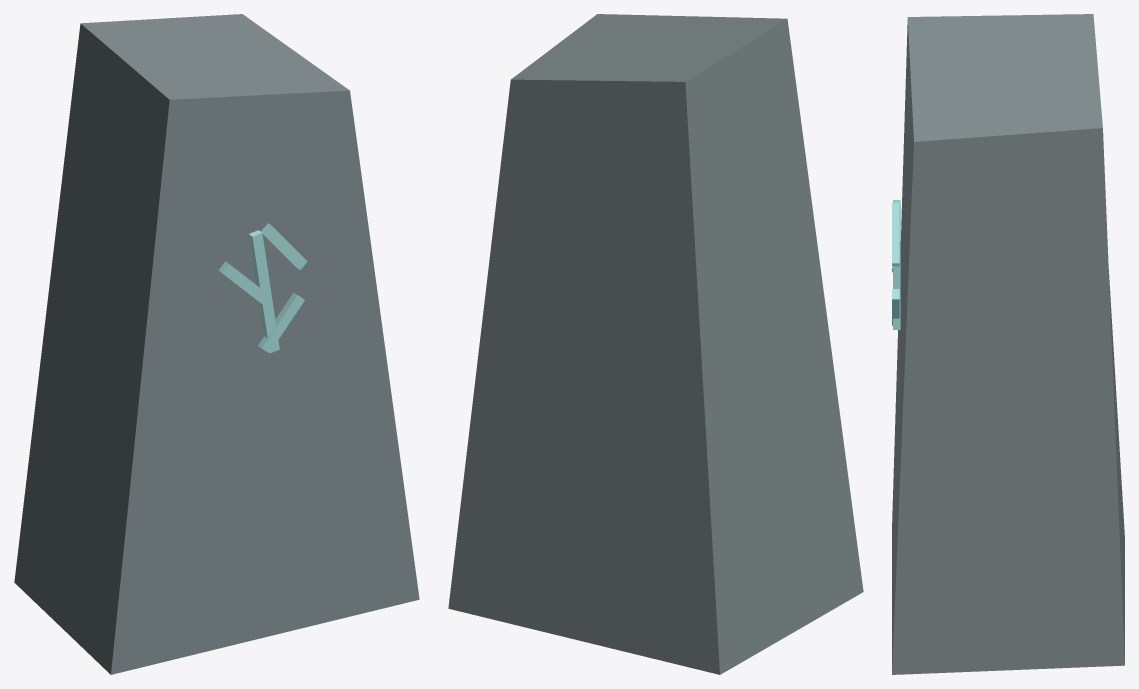
Rendered from wardstone.glb.
3 views of the same model, side by side, from view 1: azimuth 30°, elevation 25°; view 2: azimuth 150°, elevation 25°; view 3: azimuth 270°, elevation 25° (orthographic). The views are drawn at different scales.
Parts seen in each view (by area): view 1: Weathered monolith, Rune stem; view 2: Weathered monolith; view 3: Weathered monolith, Rune stem.
Part boxes in pixels (bbox=[...]): Weathered monolith: bbox=[14, 14, 419, 674]; Rune stem: bbox=[218, 223, 307, 353]; Weathered monolith: bbox=[448, 14, 863, 674]; Weathered monolith: bbox=[892, 14, 1124, 674]; Rune stem: bbox=[892, 200, 900, 329].
Bounding box in the file's own units: 1.11 × 1.92 × 0.74.
